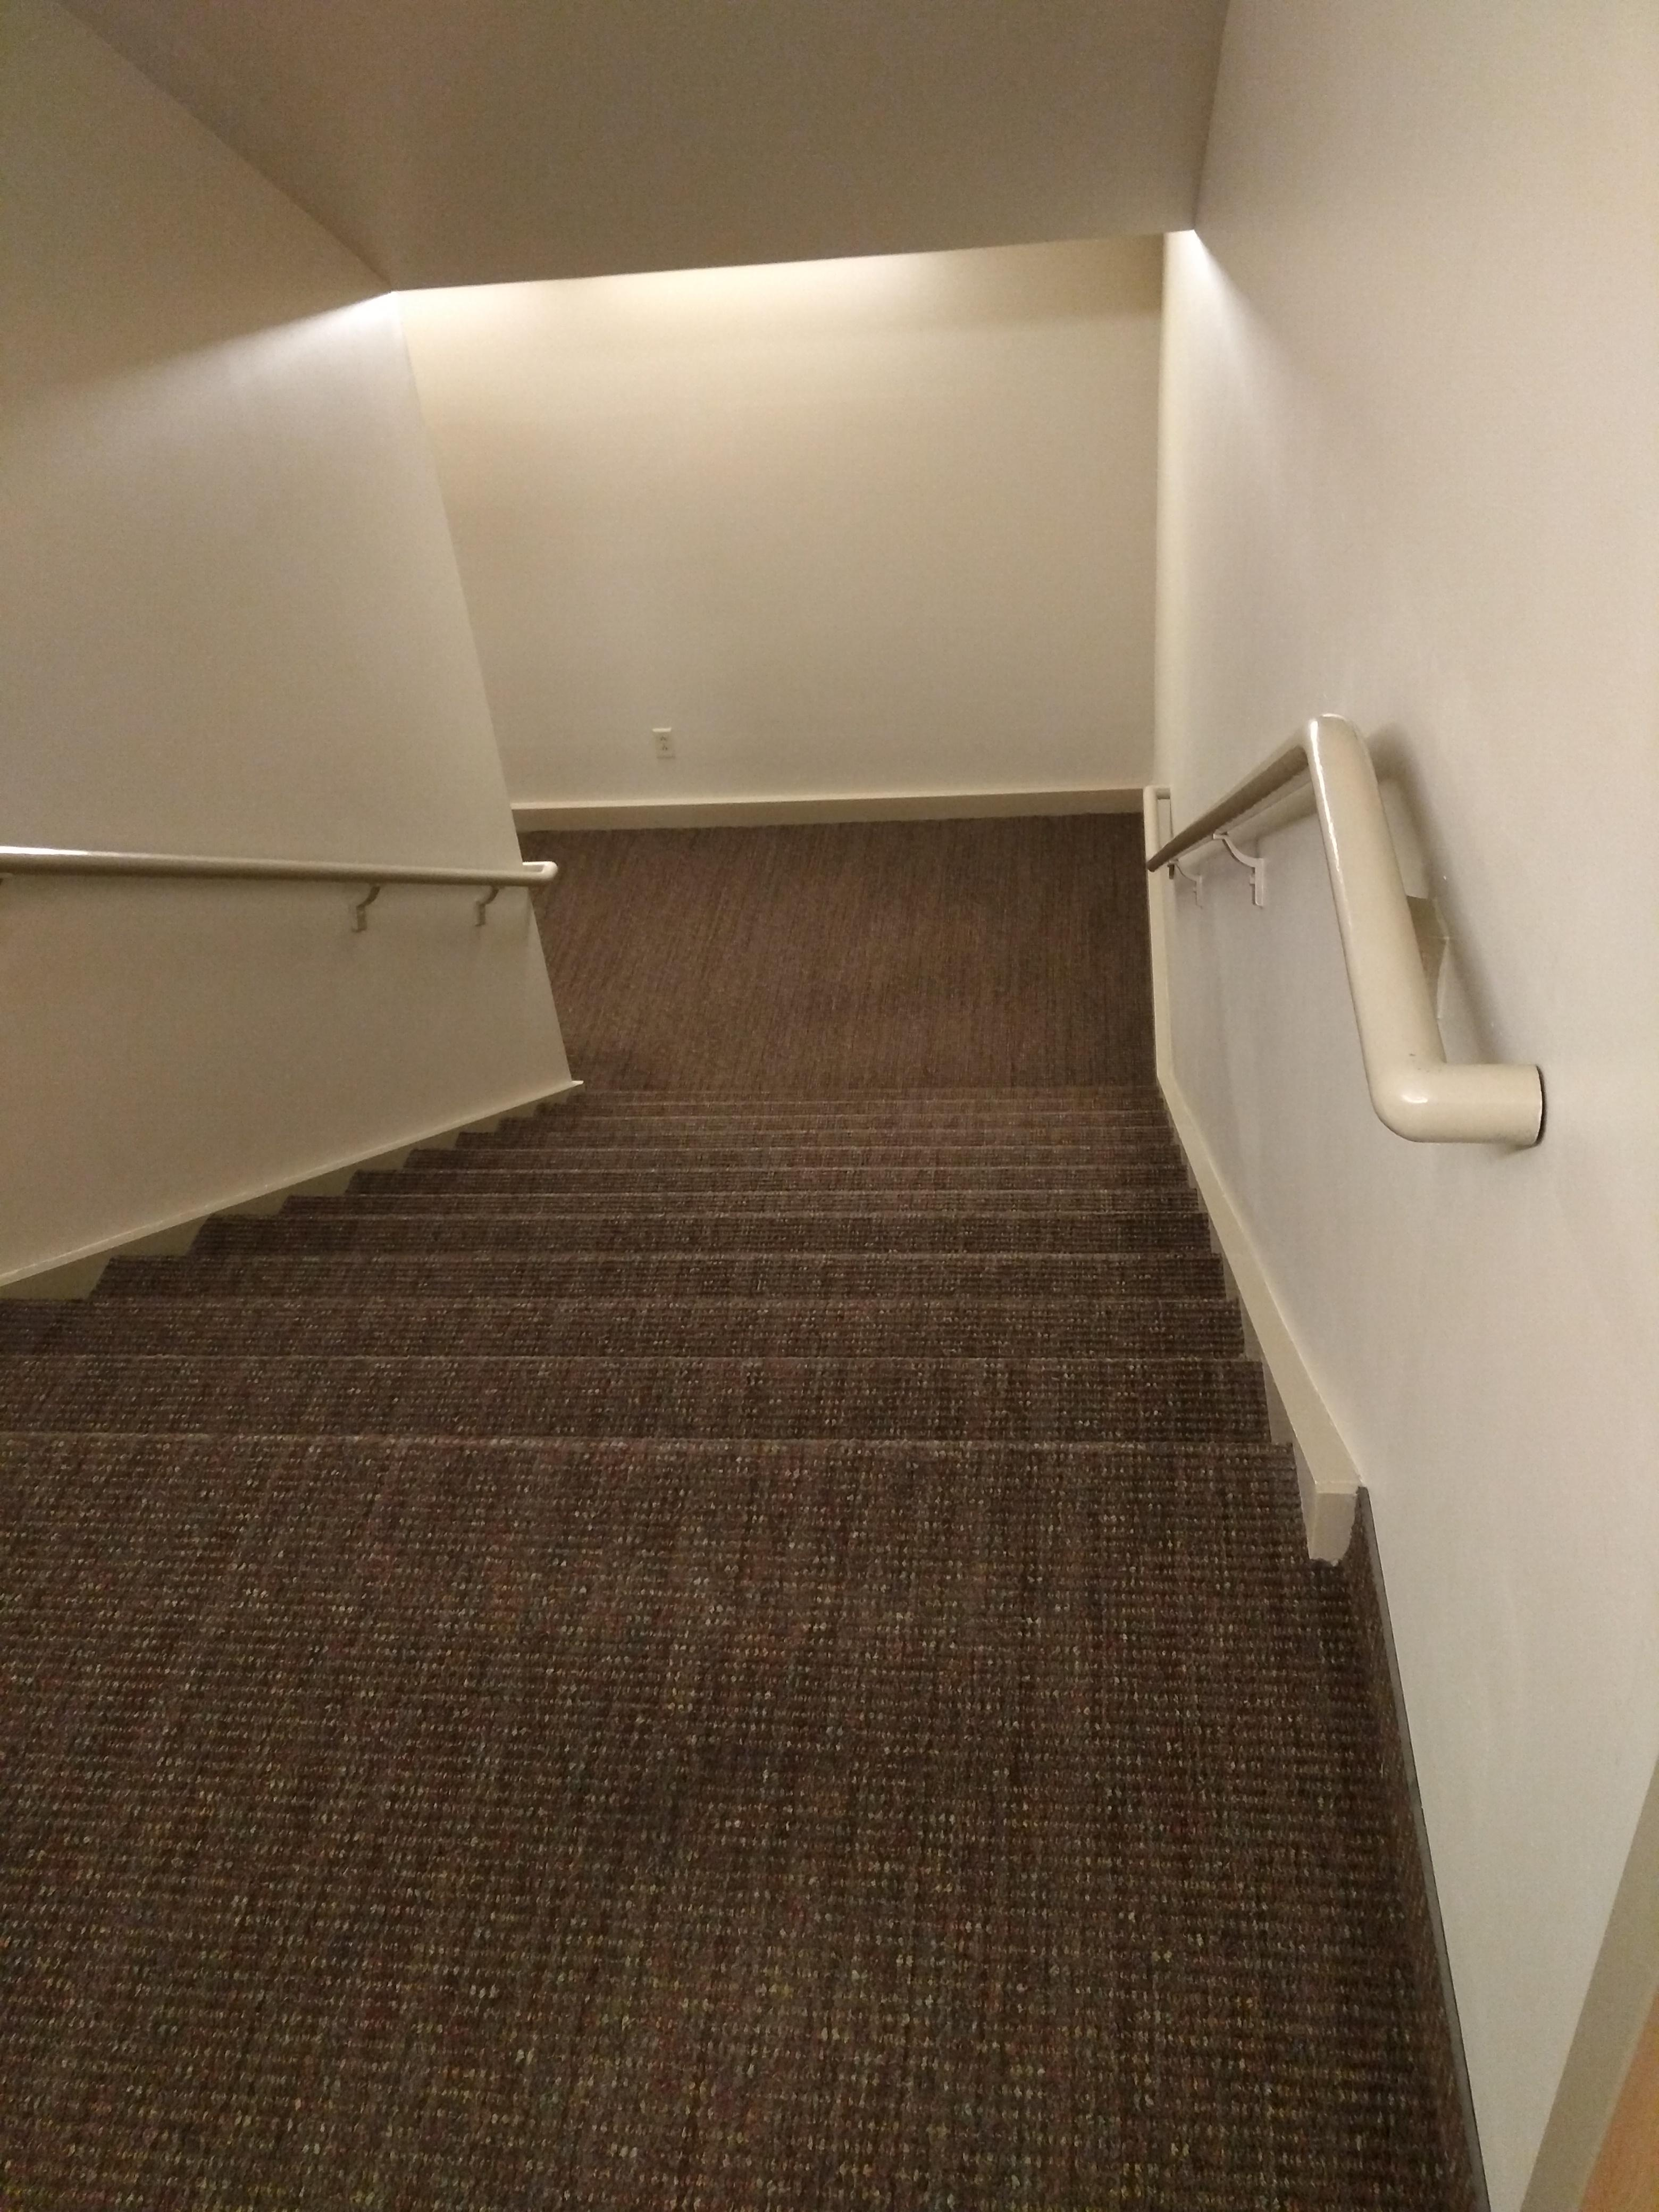stairs_down: (0, 1078, 1297, 1538)
